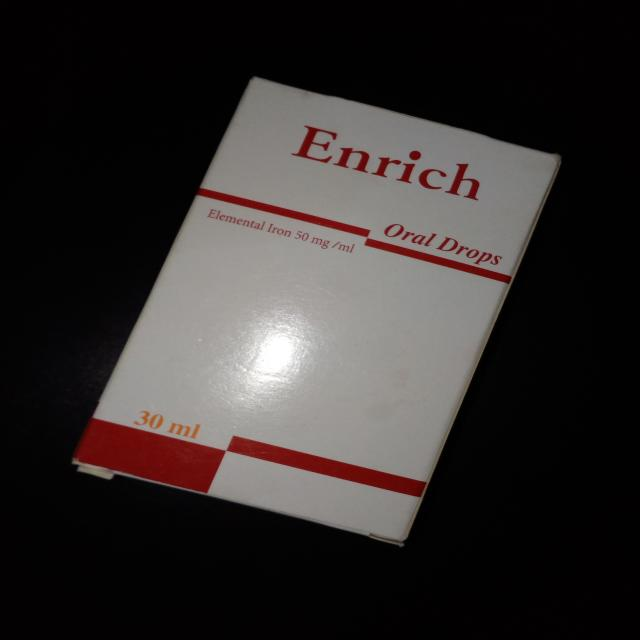Medicine: (70, 76, 563, 546)
